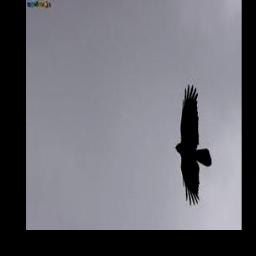Crow: (176, 84, 212, 206)
